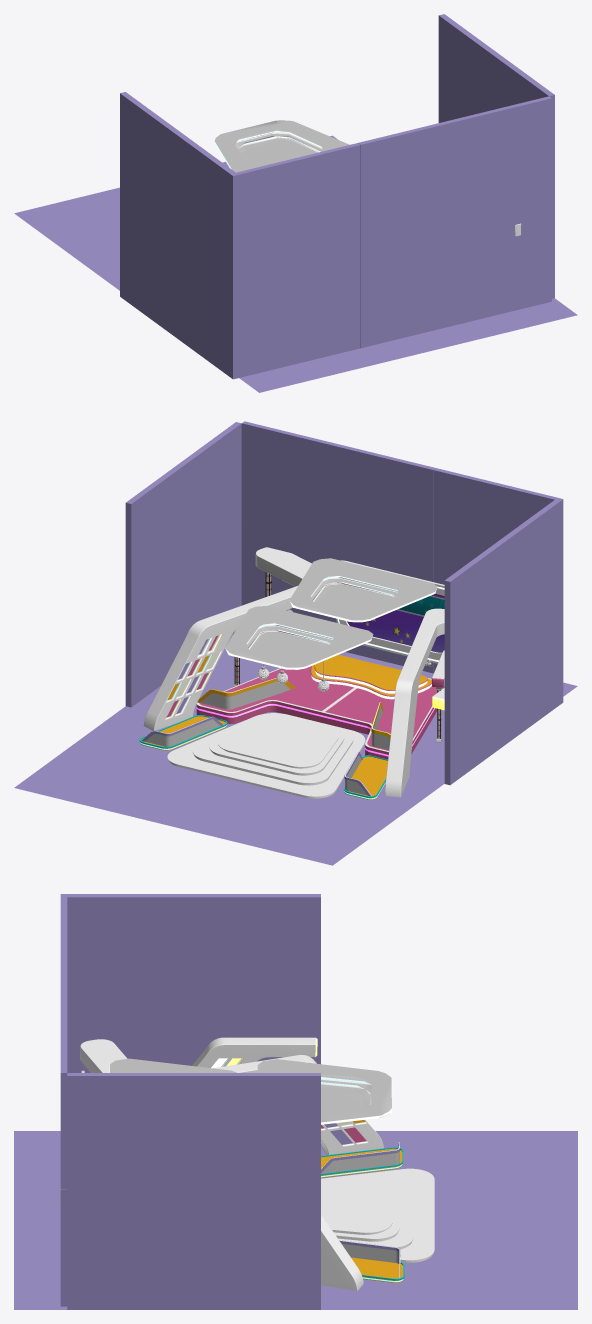
Rendered from StarStudioMaya.fbx.
The picture shows the model from 3 angles, top to bottom: view 1: azimuth 30°, elevation 25°; view 2: azimuth 150°, elevation 25°; view 3: azimuth 270°, elevation 25°; orthographic projection. The views are drawn at different scales.
Visible parts, largest first — view 1: Wall40, Wall19, Wall34, Wall33, Wall32, Wall35, Wall17, Wall16, Wall18, Wall15, SM_Floor18, SM_MainStage_LOD3_1 (+13 smaller); view 2: SM_MainStage2_57, SM_WallPlasticLeft_5, SM_FloorBack_44, Wall32, Wall33, Wall34, SM_Floor3, SM_Floor2_8, SM_Floor18, SM_MainStage_LOD3_1, SM_MainStage_LOD3_2, Wall35 (+27 smaller); view 3: Wall40__1_, Wall40__3_, Wall40__5_, Wall40__7_, Wall40__9_, Wall40__11_, Wall40__8_, Wall40__10_, Wall40__12_, SM_Floor2_8, SM_MainStage2_57, SM_Floor3 (+20 smaller).
Part boxes in pixels (bbox=[...]): Wall40: bbox=[230, 158, 296, 277]; Wall19: bbox=[230, 262, 296, 379]; Wall34: bbox=[358, 127, 424, 246]; Wall33: bbox=[422, 112, 488, 230]; Wall32: bbox=[485, 96, 551, 215]; Wall35: bbox=[294, 143, 360, 261]; Wall17: bbox=[360, 231, 424, 347]; Wall16: bbox=[424, 215, 488, 332]; Wall18: bbox=[297, 246, 360, 363]; Wall15: bbox=[488, 200, 551, 316]; SM_Floor18: bbox=[14, 187, 119, 258]; SM_MainStage_LOD3_1: bbox=[214, 120, 349, 172]; SM_MainStage2_57: bbox=[167, 713, 365, 798]; SM_WallPlasticLeft_5: bbox=[143, 547, 311, 730]; SM_FloorBack_44: bbox=[196, 666, 442, 759]; Wall32: bbox=[241, 421, 307, 540]; Wall33: bbox=[305, 437, 371, 555]; Wall34: bbox=[369, 452, 435, 571]; SM_Floor3: bbox=[14, 743, 180, 813]; SM_Floor2_8: bbox=[120, 769, 287, 839]; SM_Floor18: bbox=[226, 795, 393, 865]; SM_MainStage_LOD3_1: bbox=[225, 605, 373, 669]; SM_MainStage_LOD3_2: bbox=[289, 558, 437, 622]; Wall35: bbox=[433, 468, 499, 575]; Wall40__1_: bbox=[67, 894, 151, 1013]; Wall40__3_: bbox=[152, 894, 236, 1013]; Wall40__5_: bbox=[236, 894, 320, 1013]; Wall40__7_: bbox=[67, 1073, 151, 1192]; Wall40__9_: bbox=[152, 1073, 236, 1192]; Wall40__11_: bbox=[236, 1073, 320, 1192]; Wall40__8_: bbox=[67, 1193, 151, 1309]; Wall40__10_: bbox=[152, 1193, 236, 1309]; Wall40__12_: bbox=[236, 1193, 320, 1309]; SM_Floor2_8: bbox=[437, 1190, 577, 1250]; SM_MainStage2_57: bbox=[321, 1168, 434, 1262]; SM_Floor3: bbox=[437, 1250, 577, 1309].
Size of what is drawn, in the model's own units: 12386 by 7490 by 16214.
